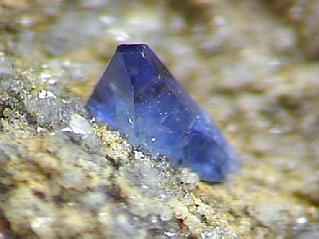benitoite: (88, 44, 240, 182)
